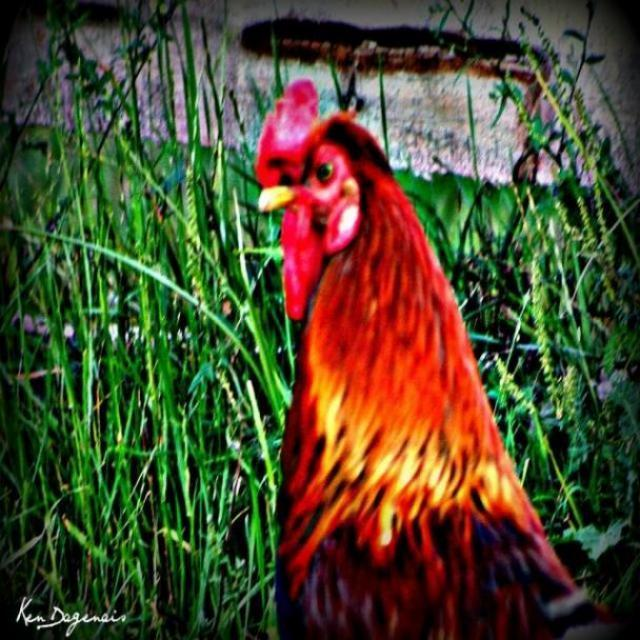Chicken: (256, 47, 596, 620)
